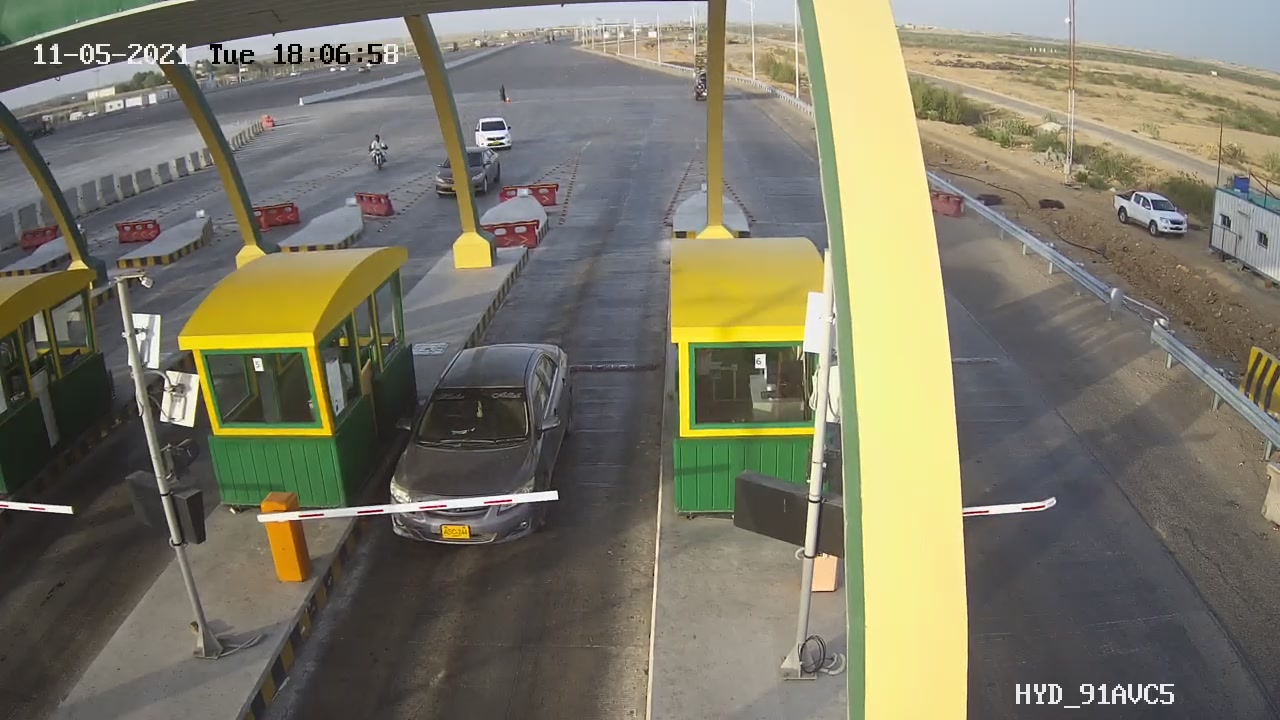F1: (368, 327, 591, 565)
